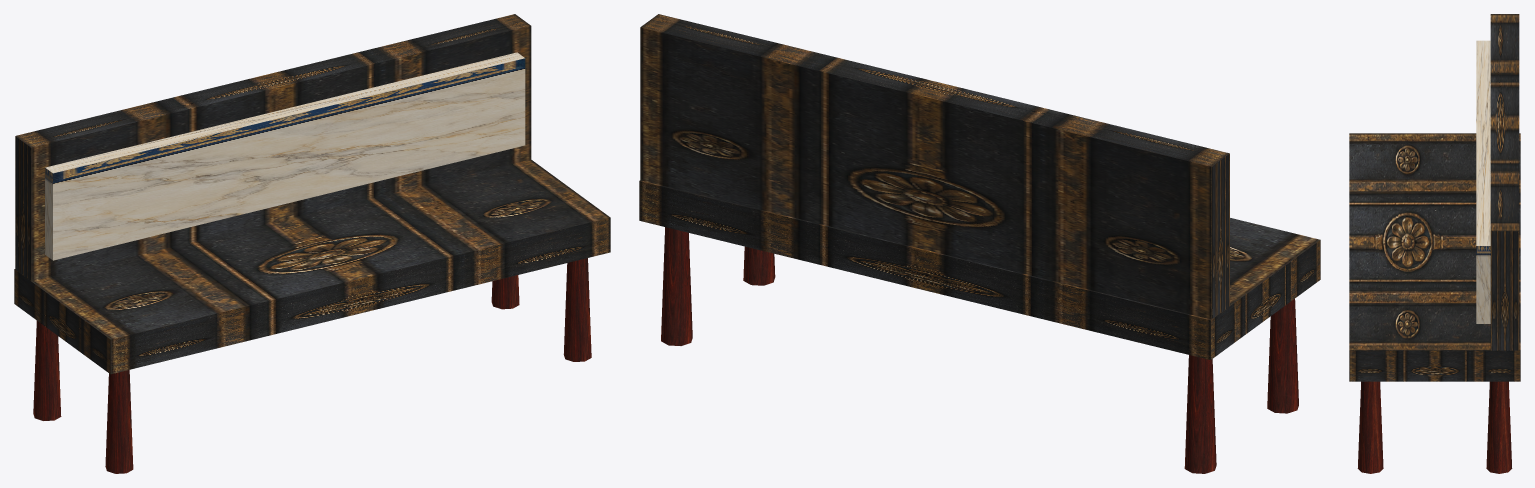
File: garden-bench.gltf
The picture shows the model from 3 angles, left to right: view 1: azimuth 30°, elevation 25°; view 2: azimuth 150°, elevation 25°; view 3: azimuth 270°, elevation 25°; orthographic projection. The views are drawn at different scales.
Visible parts, largest first — view 1: kit:0:furniture:mahogany:, kit:0:furniture:blue:, kit:0:furniture:bronze:; view 2: kit:0:furniture:mahogany:, kit:0:furniture:bronze:; view 3: kit:0:furniture:mahogany:, kit:0:furniture:blue:, kit:0:furniture:bronze:.
Part boxes in pixels (x1=…): kit:0:furniture:mahogany:: x1=14, y1=14, x2=610, y2=374; kit:0:furniture:blue:: x1=45, y1=52, x2=525, y2=260; kit:0:furniture:bronze:: x1=33, y1=258, x2=591, y2=473; kit:0:furniture:mahogany:: x1=639, y1=14, x2=1320, y2=359; kit:0:furniture:bronze:: x1=661, y1=227, x2=1298, y2=473; kit:0:furniture:mahogany:: x1=1349, y1=14, x2=1520, y2=381; kit:0:furniture:blue:: x1=1476, y1=40, x2=1490, y2=323; kit:0:furniture:bronze:: x1=1357, y1=381, x2=1512, y2=473.
Size of the model in its own units: 1.8 by 0.95 by 0.6.
3 materials, 3 textured.
